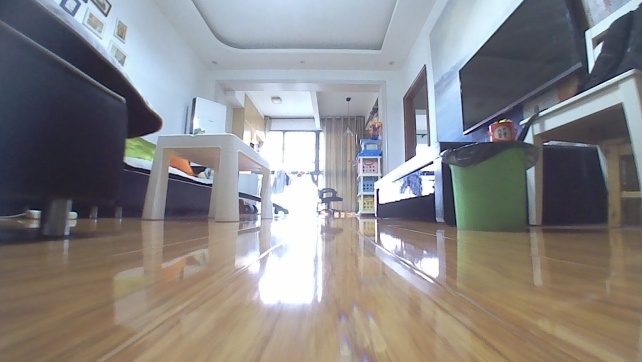TV_stand: (369, 135, 610, 225)
sofa1: (0, 0, 223, 240)
